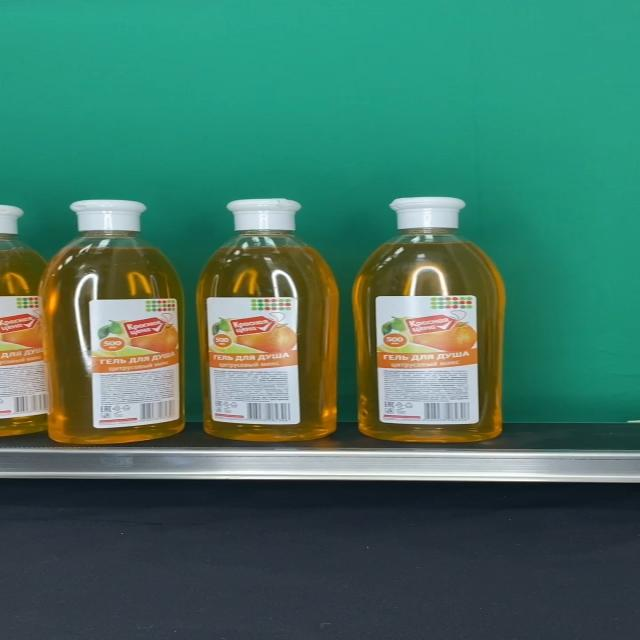Bottle: (352, 197, 506, 443), (40, 201, 185, 444), (197, 198, 341, 440)
Cap: (225, 198, 302, 231), (389, 197, 465, 230), (70, 200, 146, 232)
